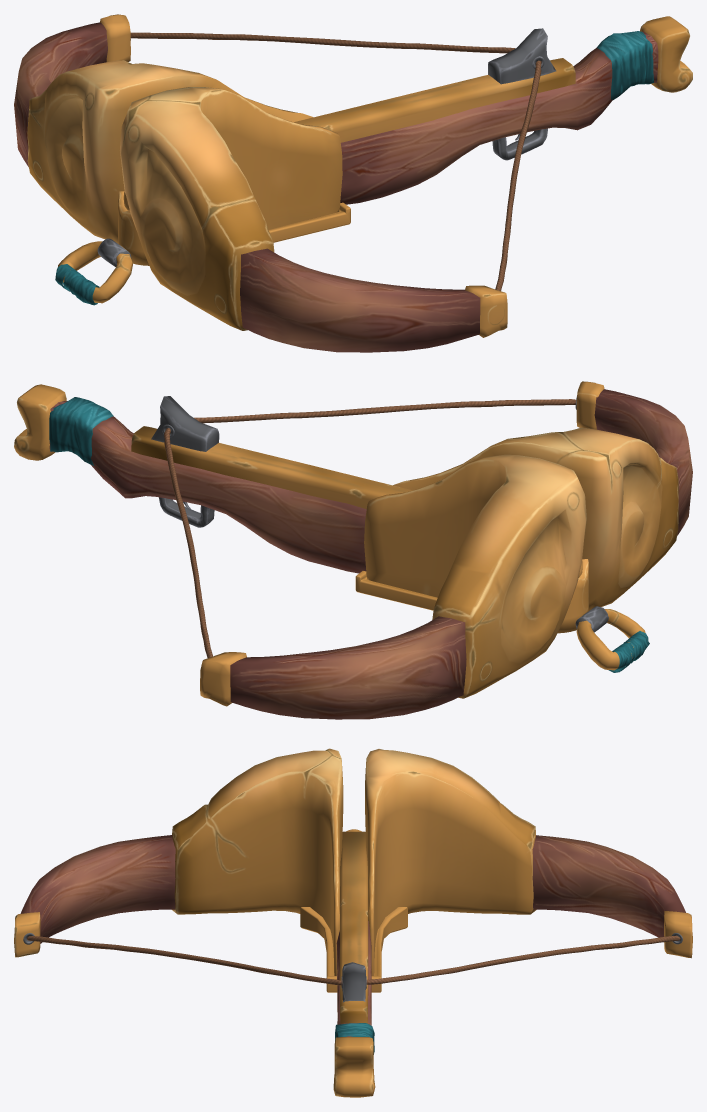
File: crossbow.fbx
3 views of the same model, one above another, from view 1: azimuth 30°, elevation 25°; view 2: azimuth 150°, elevation 25°; view 3: azimuth 270°, elevation 25° (orthographic). The views are drawn at different scales.
Parts seen in each view (by area): view 1: 1_low, 3_low, 2_low, 15_low, 14_low, 3_low.001, 22_low, 23_low, 16_low.001, 18_low, 9_low, 16_low (+5 smaller); view 2: 2_low, 3_low.001, 1_low, 15_low, 14_low, 3_low, 22_low, 23_low, 16_low, 18_low, 9_low, 44_low (+5 smaller); view 3: 1_low, 2_low, 3_low, 3_low.001, 14_low, 23_low, Cube.007, 16_low, 16_low.001, 44_low, 4_low, 18_low (+2 smaller).
Part boxes in pixels (left/top/right/bottom): 1_low: left=120, top=87, right=342, bottom=330; 3_low: left=240, top=248, right=480, bottom=352; 2_low: left=27, top=60, right=313, bottom=243; 15_low: left=340, top=31, right=658, bottom=204; 14_low: left=294, top=58, right=575, bottom=142; 3_low.001: left=14, top=22, right=107, bottom=166; 22_low: left=596, top=31, right=653, bottom=99; 23_low: left=640, top=16, right=692, bottom=92; 16_low.001: left=130, top=32, right=515, bottom=53; 18_low: left=488, top=28, right=556, bottom=84; 9_low: left=58, top=241, right=132, bottom=303; 16_low: left=495, top=60, right=541, bottom=290; 2_low: left=364, top=454, right=586, bottom=698; 3_low.001: left=230, top=616, right=466, bottom=719; 1_low: left=393, top=427, right=678, bottom=610; 15_low: left=49, top=401, right=366, bottom=573; 14_low: left=131, top=426, right=412, bottom=508; 3_low: left=594, top=389, right=692, bottom=535; 22_low: left=49, top=397, right=113, bottom=465; 23_low: left=14, top=384, right=66, bottom=460; 16_low: left=194, top=399, right=575, bottom=423; 18_low: left=151, top=396, right=219, bottom=451; 9_low: left=576, top=609, right=645, bottom=670; 44_low: left=200, top=652, right=246, bottom=706; 1_low: left=172, top=748, right=343, bottom=975; 2_low: left=365, top=749, right=536, bottom=975; 3_low: left=20, top=835, right=175, bottom=943; 3_low.001: left=532, top=835, right=685, bottom=937; 14_low: left=340, top=831, right=368, bottom=1023; 23_low: left=333, top=1037, right=375, bottom=1097; Cube.007: left=300, top=907, right=407, bottom=992; 16_low: left=27, top=936, right=342, bottom=985; 16_low.001: left=366, top=935, right=680, bottom=984; 44_low: left=664, top=911, right=692, bottom=958; 4_low: left=14, top=912, right=40, bottom=957; 18_low: left=342, top=962, right=365, bottom=1002.
Bounding box in the file's own units: 119 × 35.64 × 128.
1 material, 1 textured.
